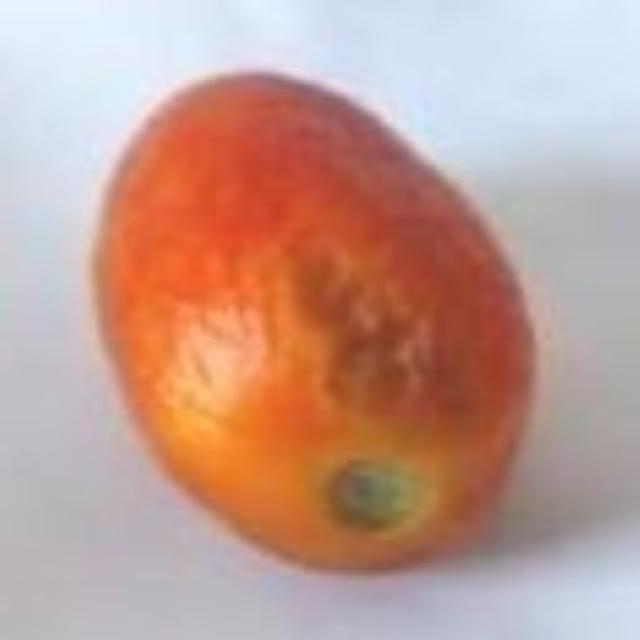defect: (91, 62, 548, 579)
